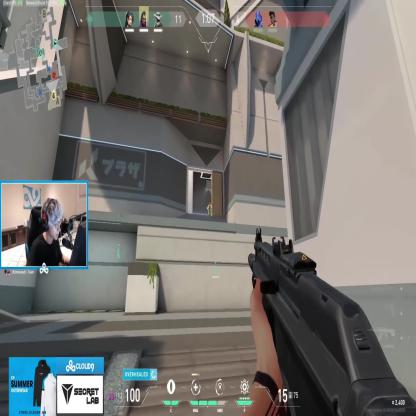enemy: (207, 202, 212, 220)
enemy_head: (209, 201, 210, 206)
